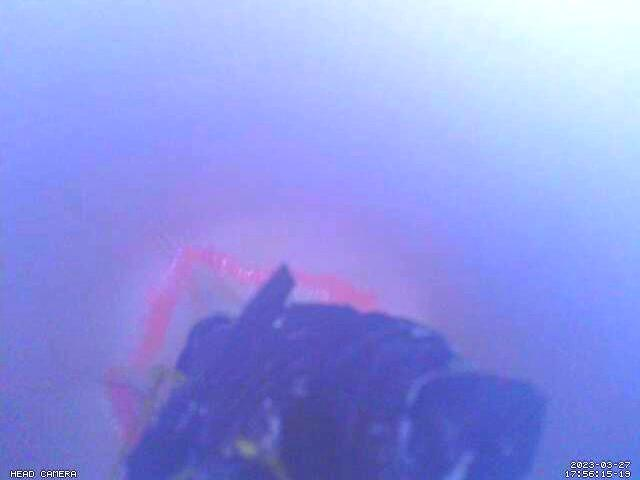head: (101, 242, 381, 451)
